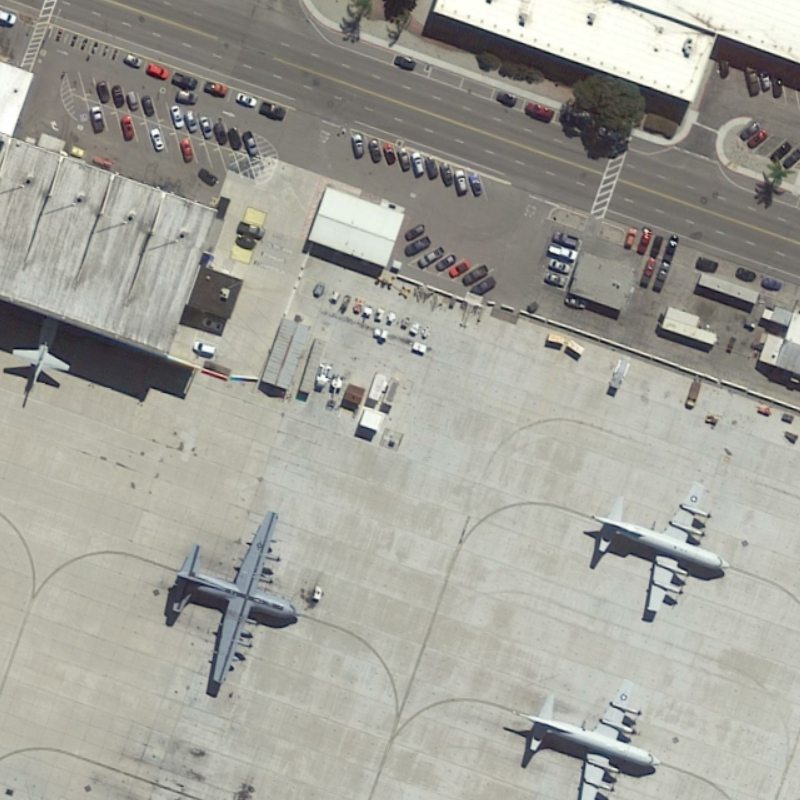A2: (163, 501, 304, 700)
A9: (577, 479, 737, 622), (510, 665, 662, 800)
